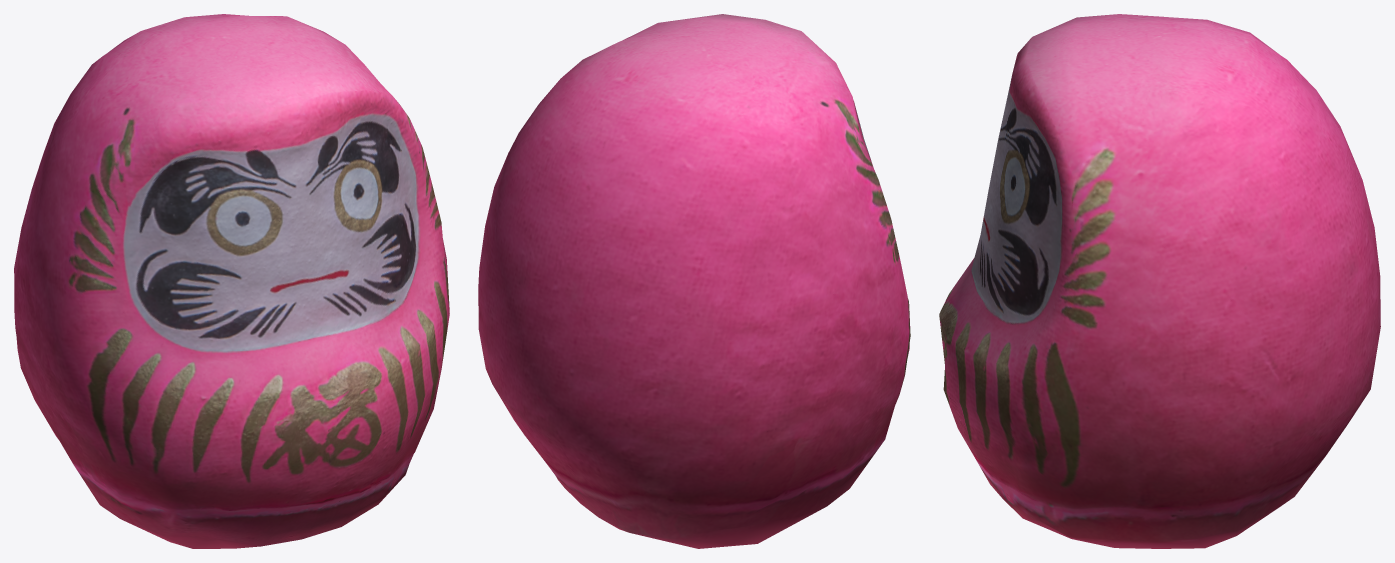
3 renders of one model, left to right at view 1: azimuth 30°, elevation 25°; view 2: azimuth 150°, elevation 25°; view 3: azimuth 270°, elevation 25°, orthographic. The views are drawn at different scales.
Visible parts, largest first — view 1: Daruma; view 2: Daruma; view 3: Daruma.
Part boxes in pixels (x1,y1,x2,y2): Daruma: [14, 14, 449, 548]; Daruma: [478, 14, 910, 548]; Daruma: [939, 14, 1380, 548].
Size of the model in its own units: 0.0545 by 0.064 by 0.0543.
1 material, 1 textured.
